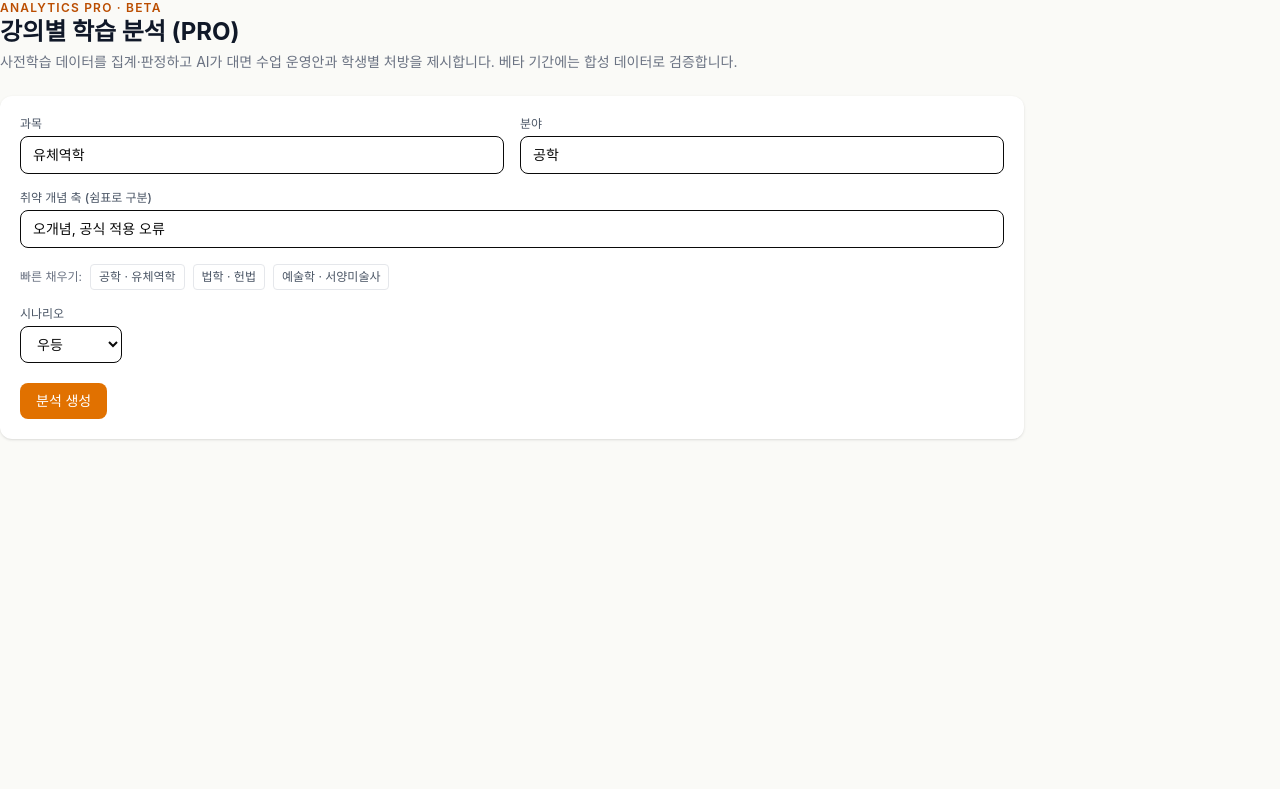
Test case: AnalyticsProPage › generates analysis and renders verdict + briefing on success
Click the button "분석 생성" at [64, 401], box [20,383,107,419]
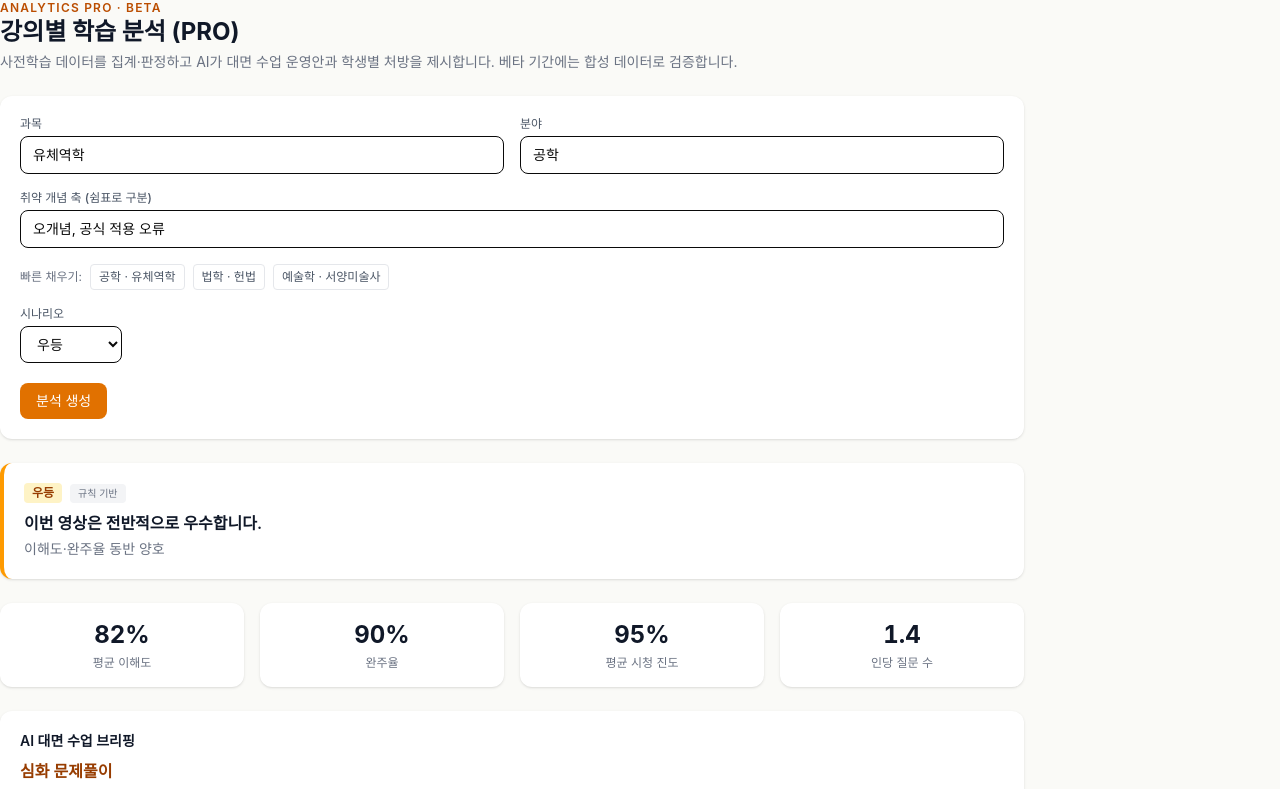
Result: the text "이번 영상은 전반적으로 우수합니다." is shown at [24,513,262,533]
Result: the text "82%" is shown at [94,620,150,649]
Result: the text "심화 문제풀이" is shown at [20,761,112,781]
